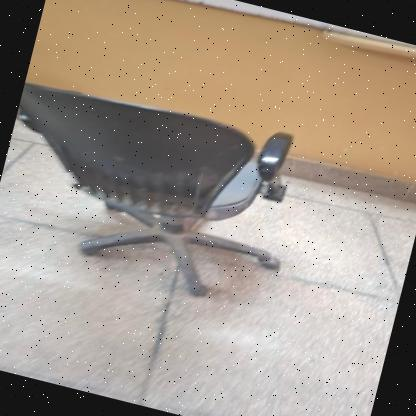chair: (0, 57, 321, 319)
